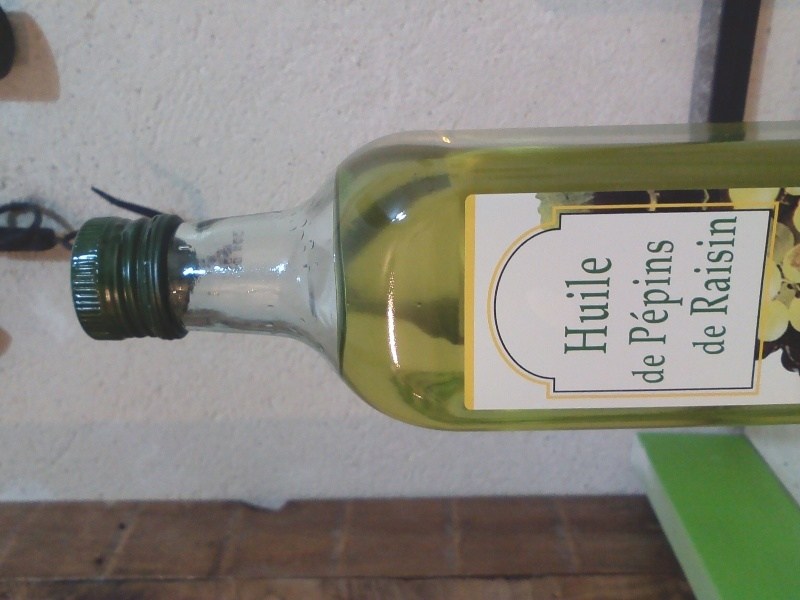text: (641, 235, 656, 350), (657, 235, 672, 350), (673, 235, 688, 350), (577, 252, 592, 358), (593, 252, 608, 358), (705, 215, 720, 318), (721, 215, 736, 318), (566, 252, 576, 358), (695, 215, 704, 318), (632, 235, 640, 350), (705, 322, 720, 358), (609, 252, 614, 358), (641, 352, 656, 387), (691, 322, 704, 358), (737, 215, 741, 318), (657, 352, 668, 387), (630, 352, 640, 387), (689, 235, 691, 350), (721, 322, 727, 358)
